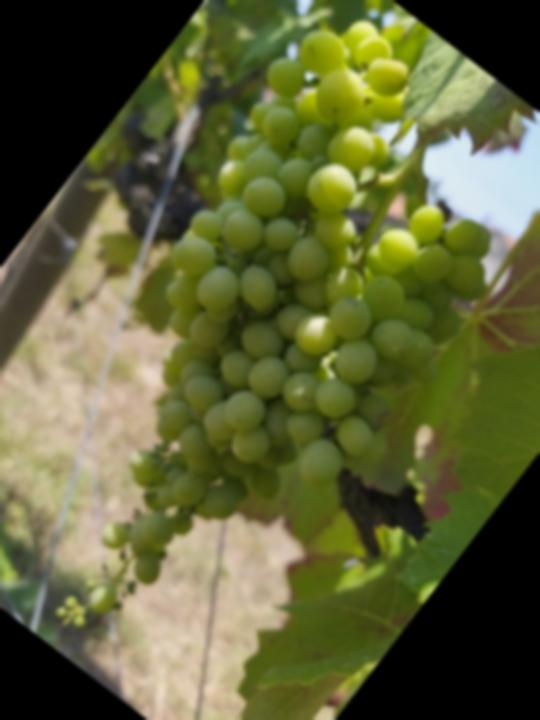grape: (0, 0, 540, 713)
